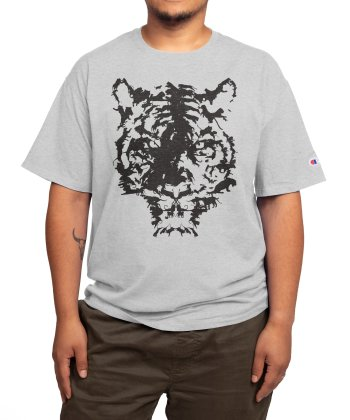design: (107, 73, 242, 241)
